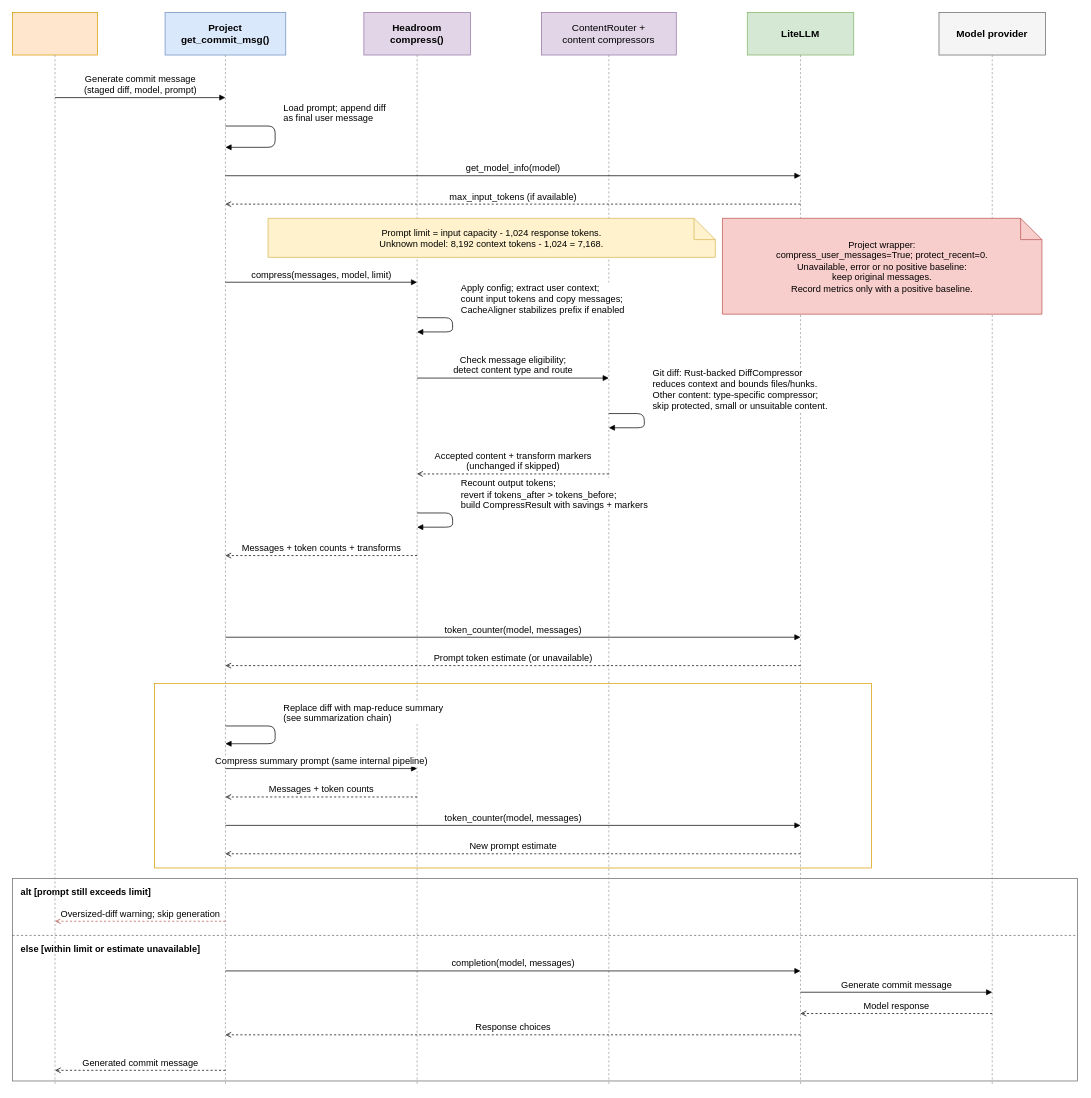
Some shapes in this 1091 by 1098 pixel diagram are drawn without their labels. The shapes that lost their labels are listed below. From the top down, each one's box as (x1, y1, x2, y2) in pixels, then its label:
(12, 12, 98, 55): Git hook
(154, 683, 872, 868): opt [estimated prompt exceeds limit]
